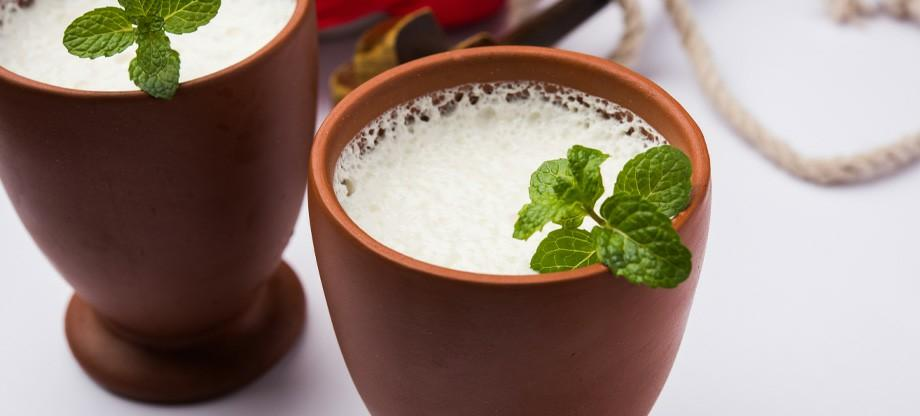Lassi: (331, 79, 673, 277), (0, 0, 307, 91)
